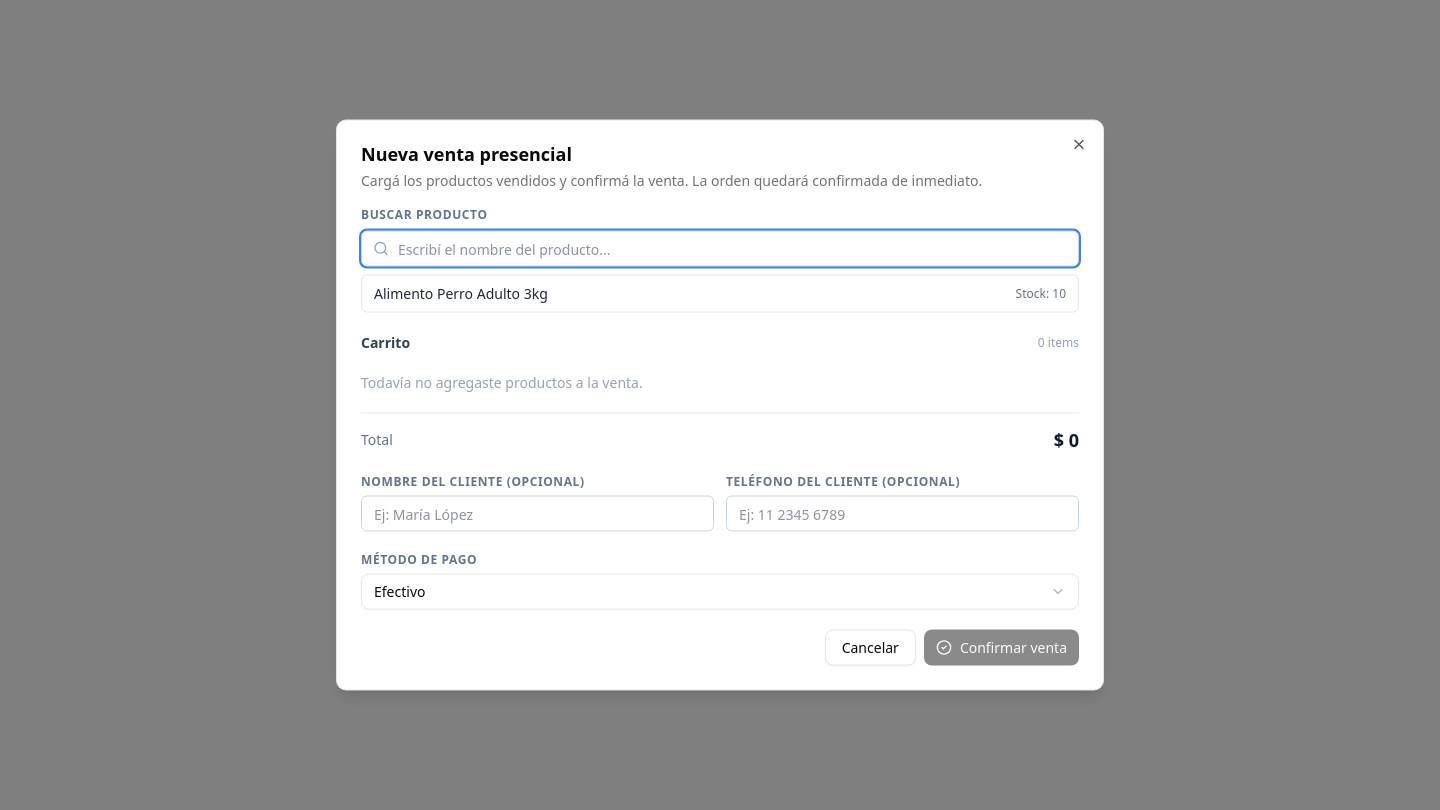
Test: ManualSaleDialog — tabla del carrito (desktop) › el botón de quitar de la tabla saca el ítem del carrito
Click the button "Alimento Perro Adulto 3kg Stock: 10" at (461, 293), box 362,276 -> 1078,312
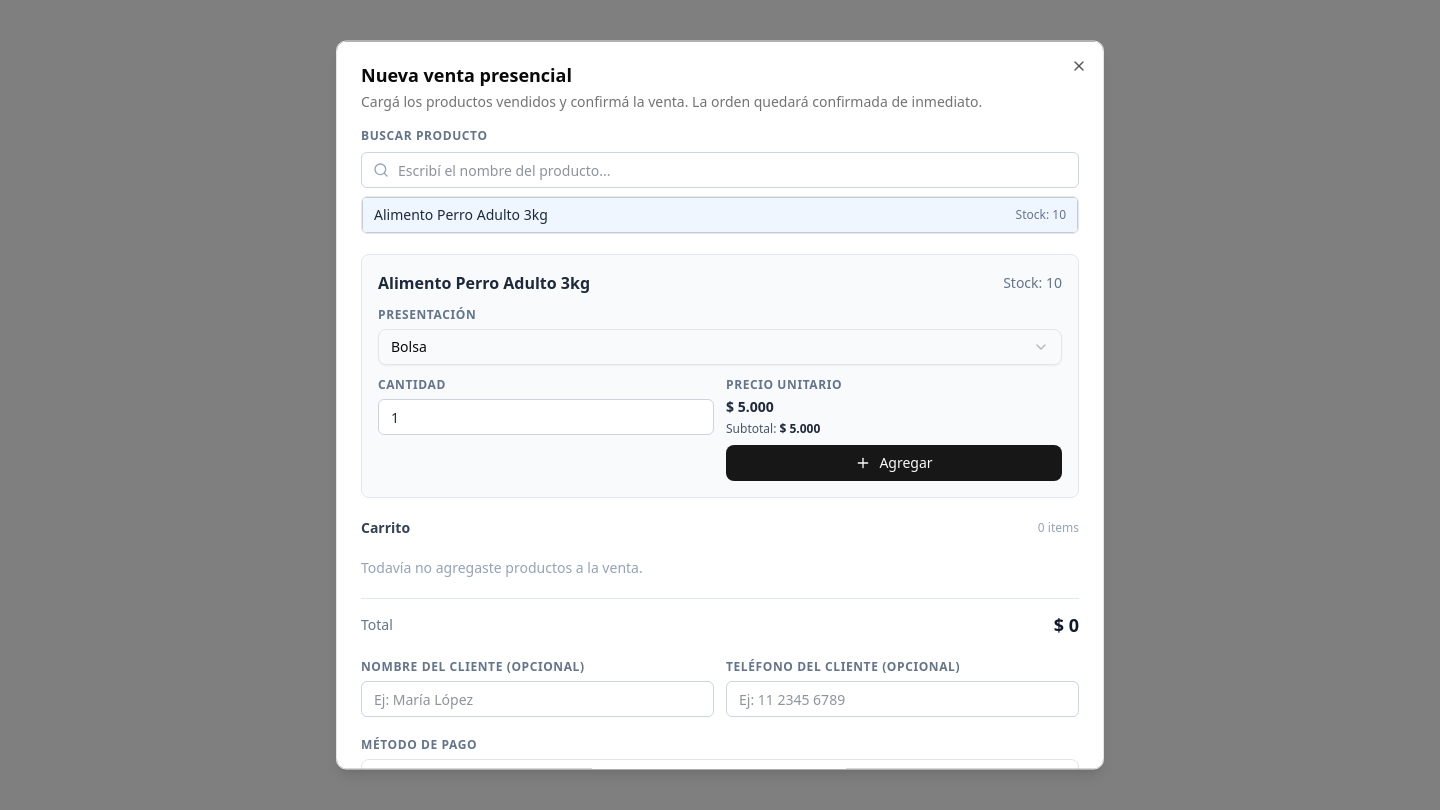
Click the button "Agregar" at (894, 462), box 726,444 -> 1062,480
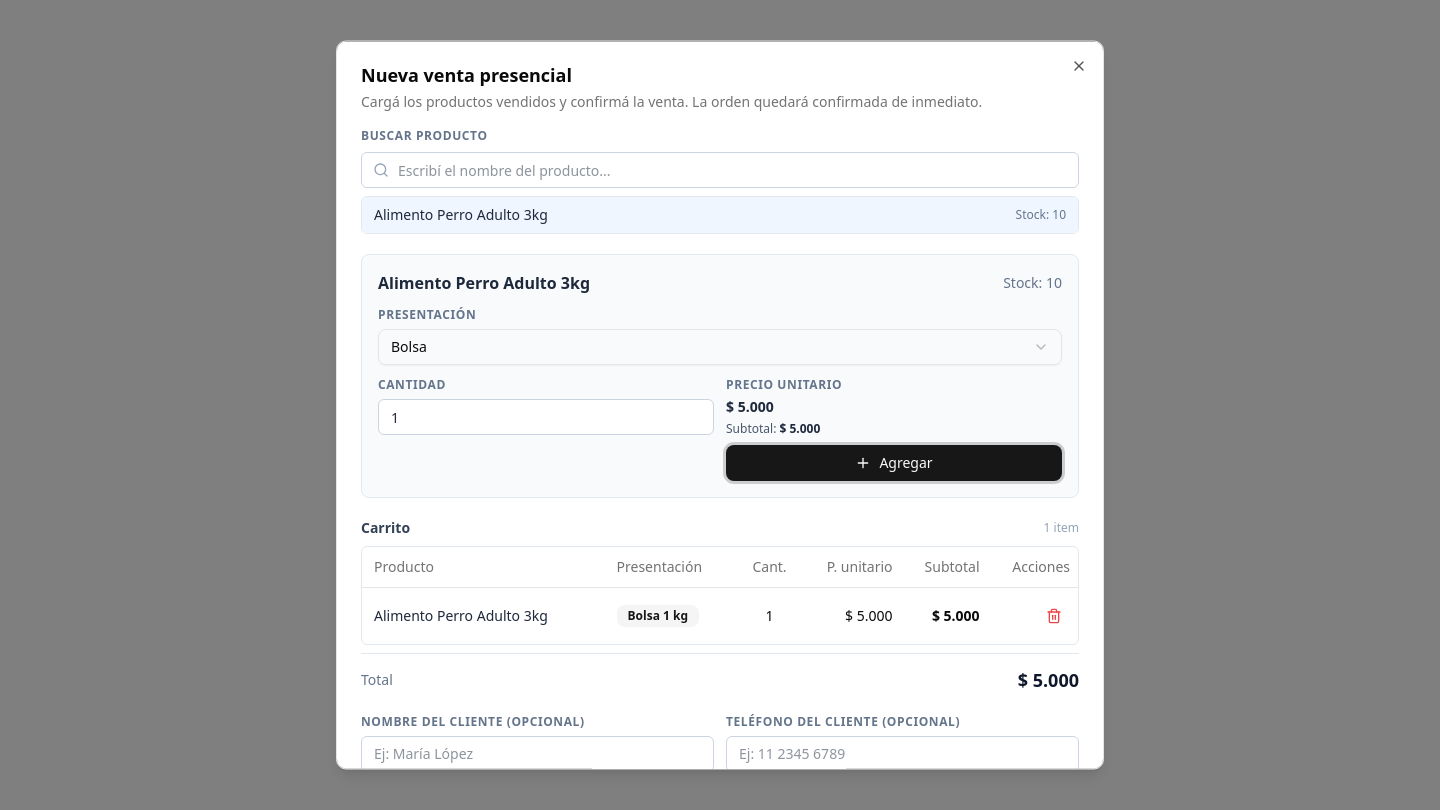
Click the button named "Quitar producto" at (1054, 615), box 1038,599 -> 1070,631
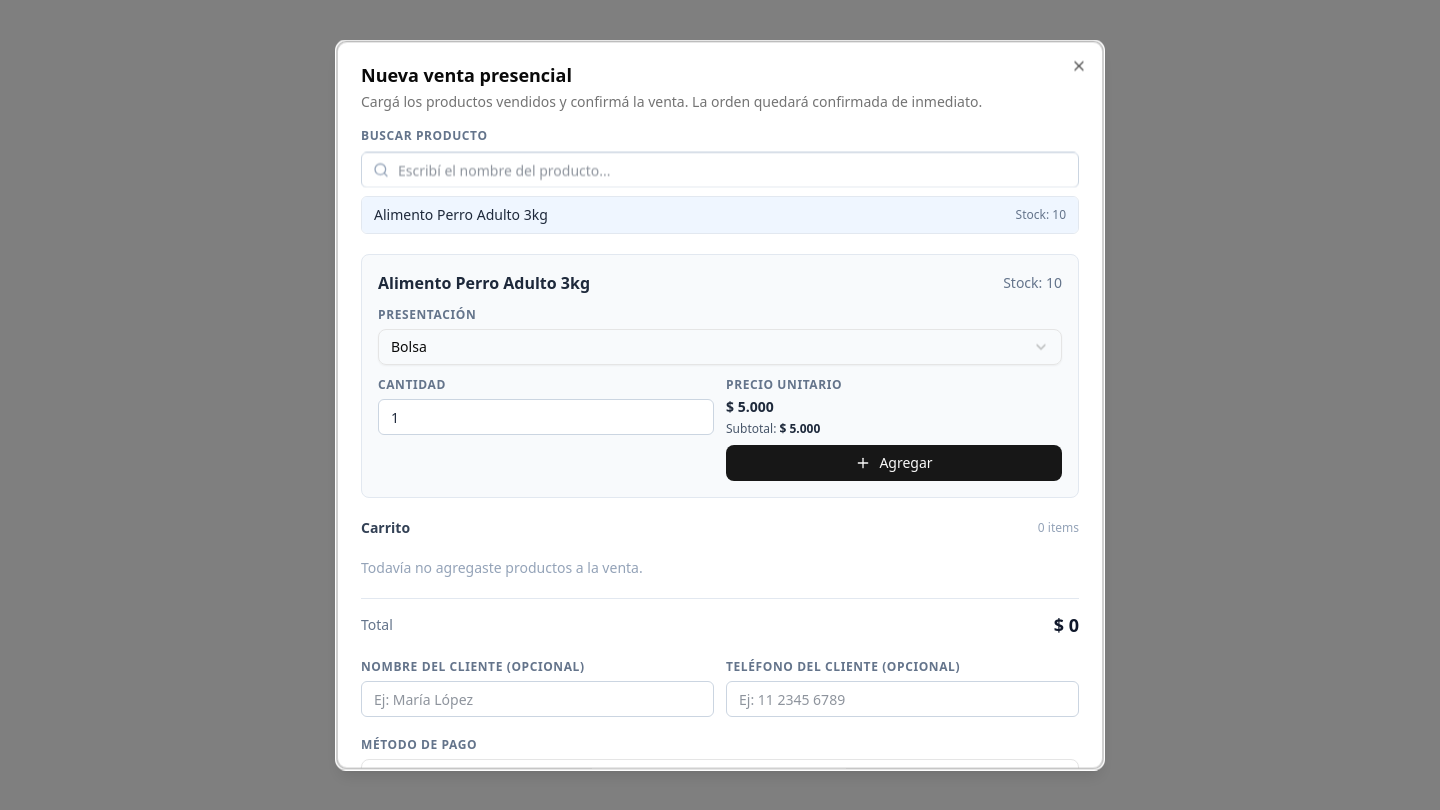
Check: the text "Todavía no agregaste productos a la venta." is shown, box 361,558 -> 643,576
